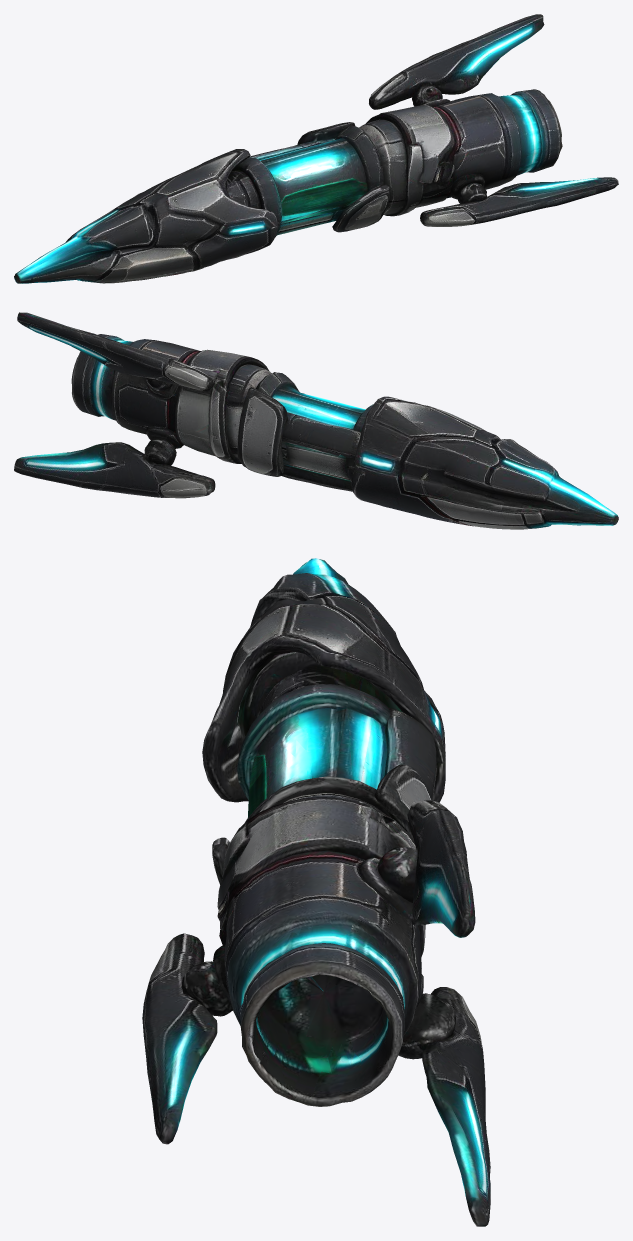
Rendered from drone-plasma-bolt.glb.
3 renders of one model, top to bottom at view 1: azimuth 30°, elevation 25°; view 2: azimuth 150°, elevation 25°; view 3: azimuth 270°, elevation 25°, orthographic. The views are drawn at different scales.
Parts seen in each view (by area): view 1: Mesh_0; view 2: Mesh_0; view 3: Mesh_0.
Part boxes in pixels (<box>): Mesh_0: <box>14,14,618,283</box>; Mesh_0: <box>14,312,618,529</box>; Mesh_0: <box>142,558,490,1226</box>.
Size of the model in its own units: 11.09 by 3 by 2.99.
Materials: 1 (1 with a texture image).
